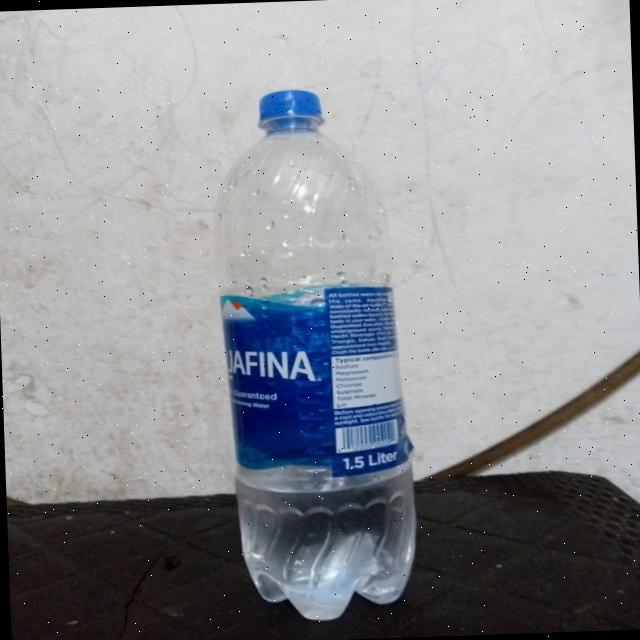bottle: (180, 60, 431, 628)
cap: (245, 88, 337, 142)
label: (200, 268, 426, 499)
